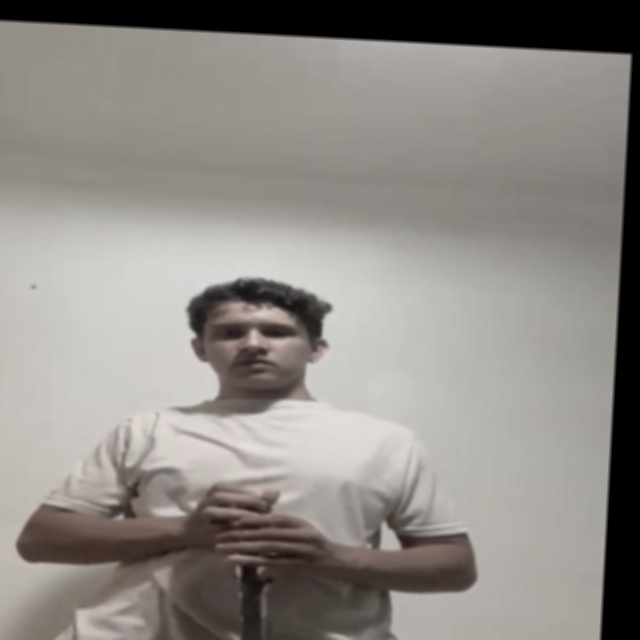Sharp-Object: (231, 581, 283, 640)
